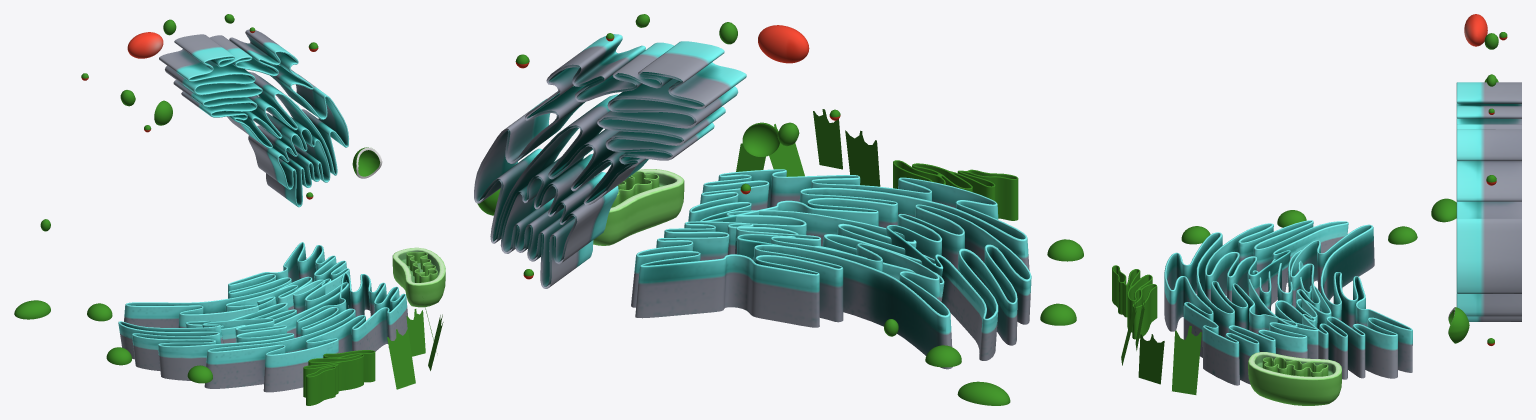
File: AnimalCell-OtherParts.fbx
The picture shows the model from 3 angles, left to right: view 1: azimuth 30°, elevation 25°; view 2: azimuth 150°, elevation 25°; view 3: azimuth 270°, elevation 25°; orthographic projection. The views are drawn at different scales.
Parts seen in each view (by area): view 1: polySurface333; view 2: polySurface333; view 3: polySurface333.
Boxes of the visible parts, left/top/right/bottom form: polySurface333: left=14, top=14, right=445, bottom=405; polySurface333: left=474, top=14, right=1083, bottom=405; polySurface333: left=1112, top=14, right=1521, bottom=405.
Size of the model in its own units: 12.42 by 8.47 by 10.78.
2 materials, 2 textured.
